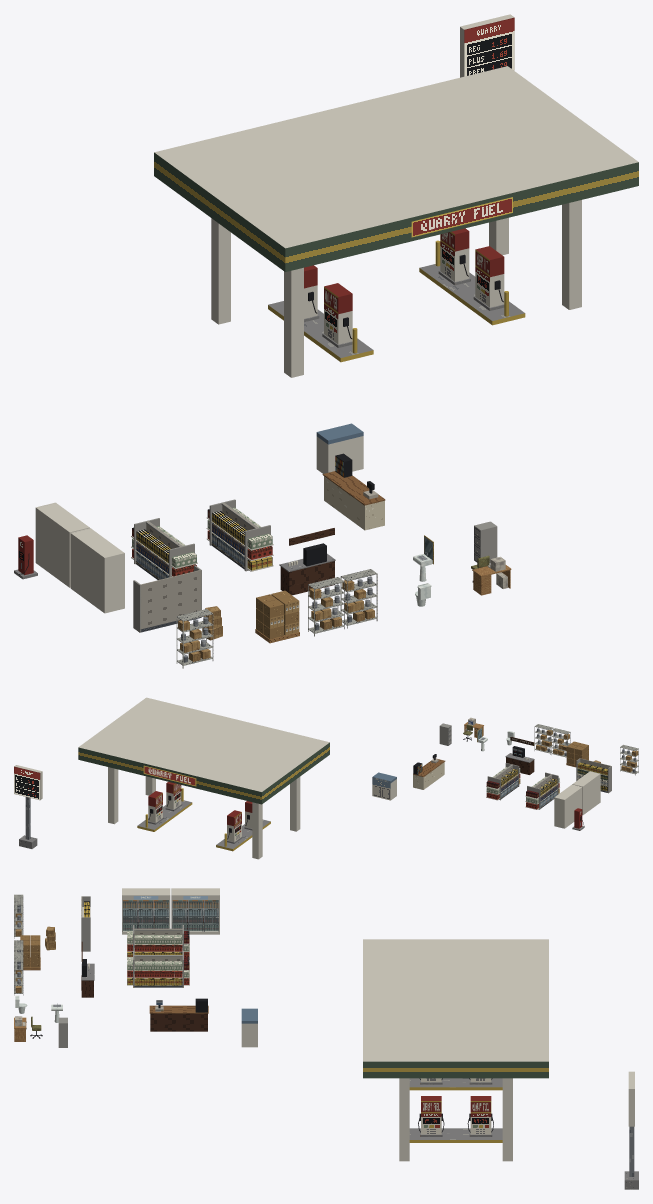
File: COM_GasStation_Furnishing.glb
3 views of the same model, one above another, from view 1: azimuth 30°, elevation 25°; view 2: azimuth 150°, elevation 25°; view 3: azimuth 270°, elevation 25° (orthographic). The views are drawn at different scales.
Parts seen in each view (by area): view 1: COM_GasStation_Furnishing_Mesh; view 2: COM_GasStation_Furnishing_Mesh; view 3: COM_GasStation_Furnishing_Mesh.
Boxes of the visible parts, x1=… form: COM_GasStation_Furnishing_Mesh: x1=14, y1=14, x2=638, y2=668; COM_GasStation_Furnishing_Mesh: x1=14, y1=697, x2=638, y2=859; COM_GasStation_Furnishing_Mesh: x1=14, y1=888, x2=638, y2=1189.
Size of what is drawn, in the model's own units: 31.46 by 5.9 by 30.24.
Materials: 14 (14 with a texture image).
